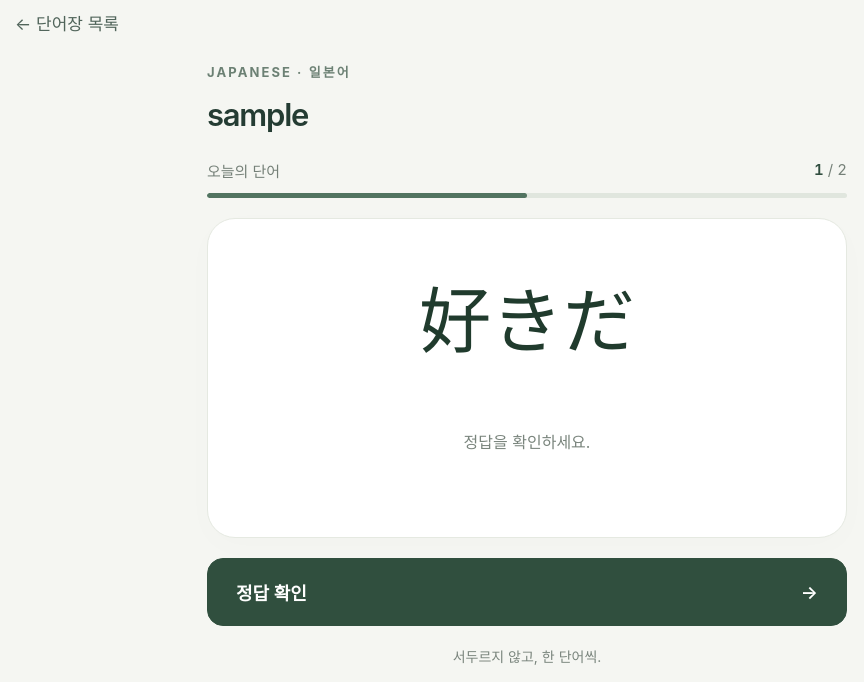
japanese supports kanji clicks without advancing the card
The width and height of the screenshot is (864, 682).
Click the button named "好 한자 뜻·음".
click(455, 321)  # box [419,271,491,372]
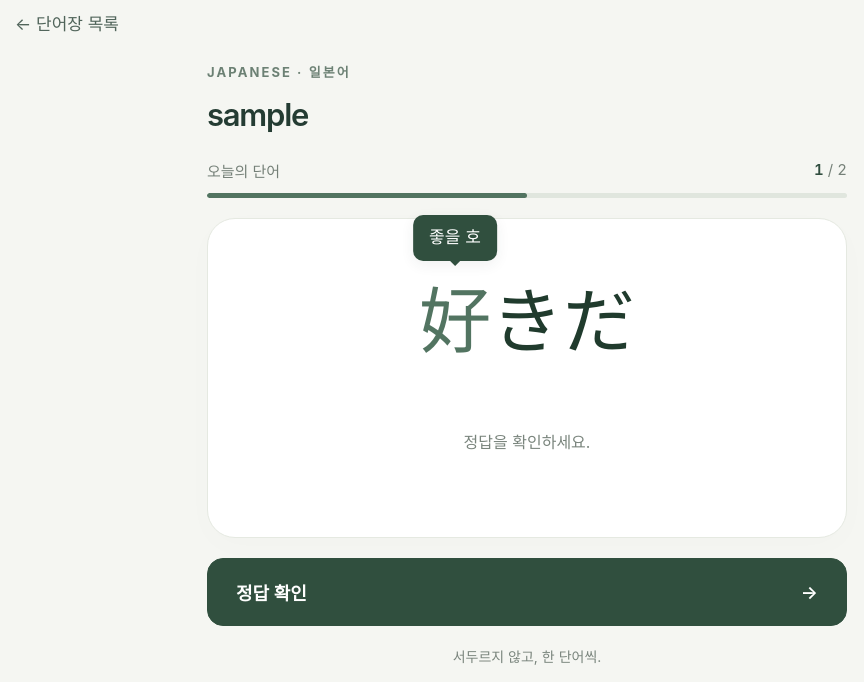
Expected: the tooltip reads "좋을 호", [429,228,481,248]
Press Enter in the button named "好 한자 뜻·음", box [419,271,491,372]
Click the button "정답 확인 →".
click(271, 594)  # box [207,558,847,626]
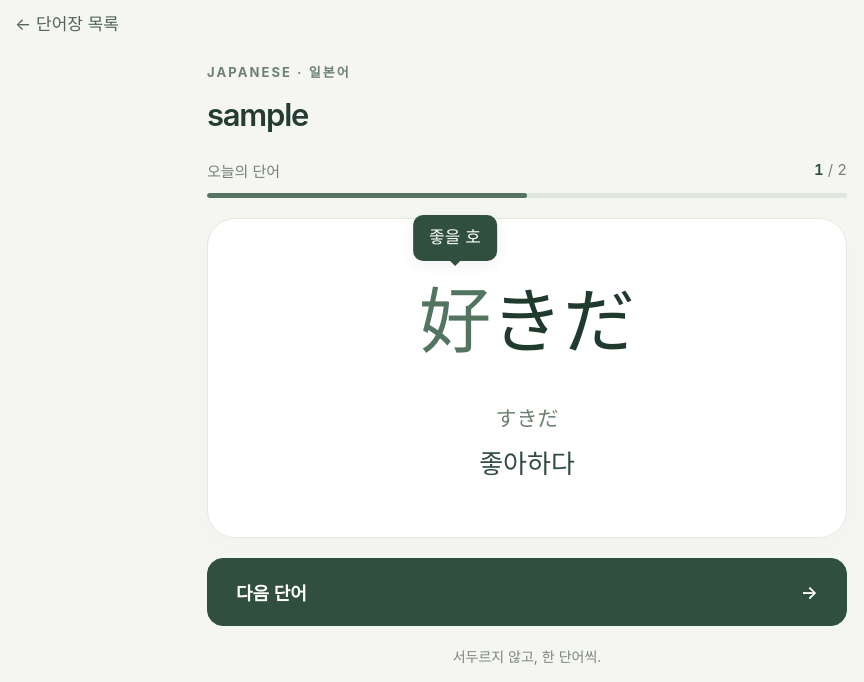
Expected: the text "좋아하다" is shown, [479,448,575,479]
Click the button "다음 단어 →".
click(271, 594)  # box [207,558,847,626]
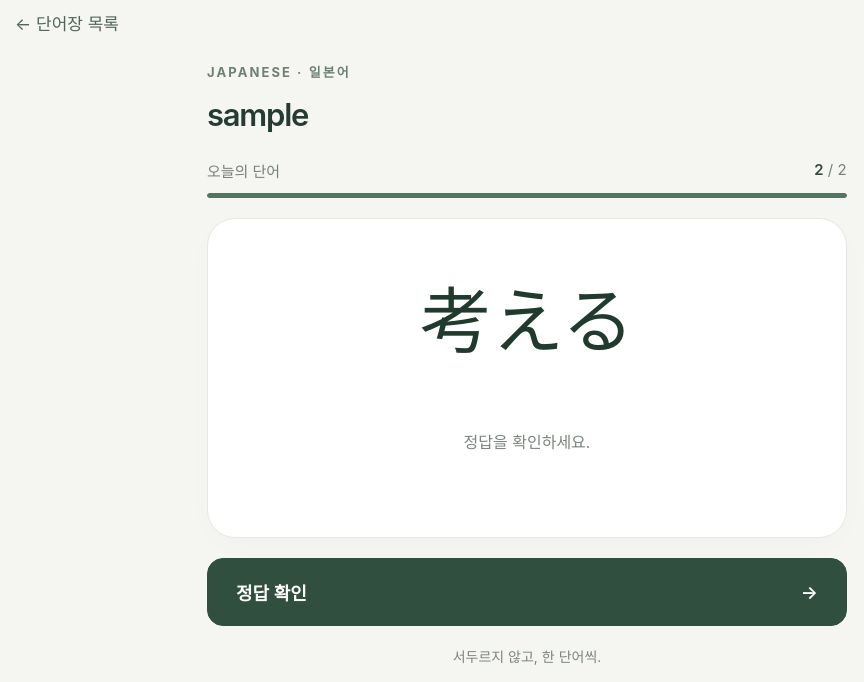
Expected: the tooltip "좋을 호" is gone
Expected: the button named "考 한자 뜻·음" is shown, [420,271,492,372]
